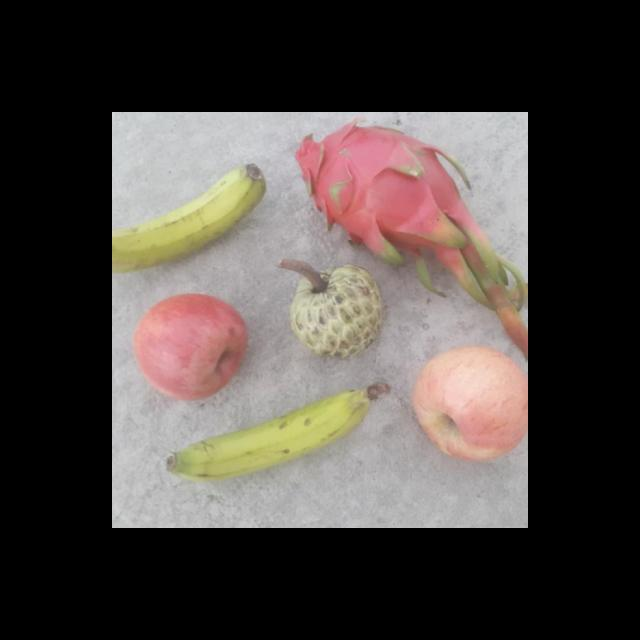Sakya fruit: (284, 264, 388, 364)
apple: (410, 342, 528, 470), (130, 290, 248, 402)
banana: (160, 379, 388, 487), (112, 162, 265, 276)
pitaya: (297, 120, 462, 268)
